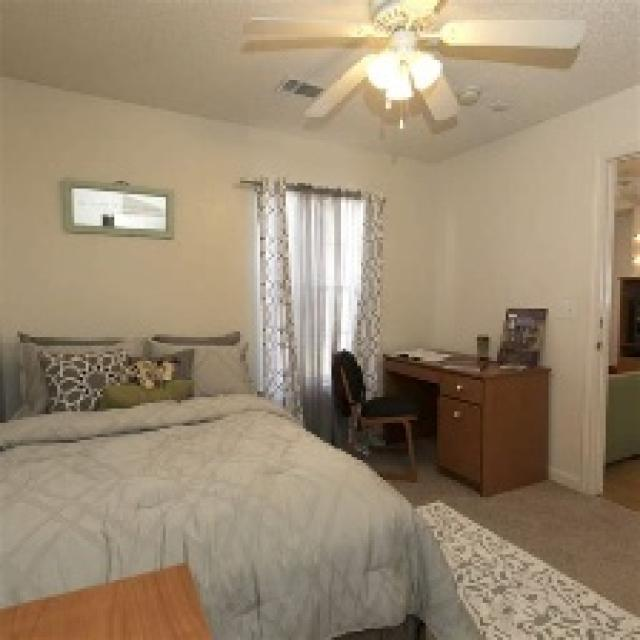Bed: (0, 329, 429, 637)
